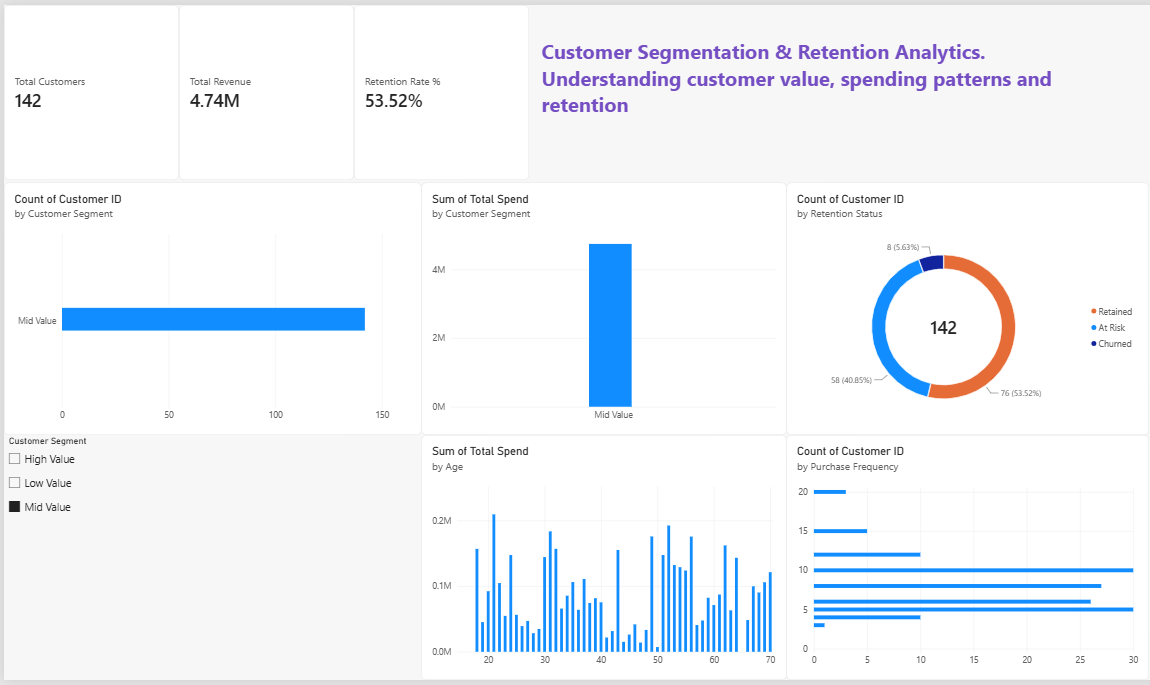

This screenshot's page, from the dashboard's own definition file:
{"tool":"powerbi","page":{"name":"Page 1","canvas":[1920,1080],"ordinal":0},"visuals":[{"type":"cardVisual","fields":{"Data":["customer_data.Total Customers"]},"box":[0,0,280,280],"z":0},{"type":"cardVisual","fields":{"Data":["customer_data.Retention Rate %"]},"box":[559.9,0,280,280],"z":1000},{"type":"cardVisual","fields":{"Data":["customer_data.Total Revenue"]},"box":[279.9,0,280,280],"z":2000},{"type":"clusteredBarChart","fields":{"Category":["customer_data.Customer Segment"],"Y":["Count(customer_data.Customer ID)"]},"box":[0,284,668,404],"z":3000},{"type":"clusteredColumnChart","fields":{"Category":["customer_data.Customer Segment"],"Y":["Sum(customer_data.Total Spend)"]},"box":[668,284,584,404],"z":4000},{"type":"donutChart","fields":{"Category":["customer_data.Retention Status"],"Y":["CountNonNull(customer_data.Customer ID)"]},"box":[1252,284,580,404],"z":5000},{"type":"slicer","fields":{"Values":["customer_data.Customer Segment"]},"box":[0,688,668,392],"z":5001},{"type":"clusteredColumnChart","fields":{"Category":["customer_data.Age"],"Y":["Sum(customer_data.Total Spend)"]},"box":[668,688,584,392],"z":5002},{"type":"clusteredBarChart","fields":{"Category":["customer_data.Purchase Frequency"],"Y":["Count(customer_data.Customer ID)"]},"box":[1252,688,580,392],"z":5003},{"type":"textbox","box":[860,52,914,144],"z":5004}]}

Visuals, with their boxes on the page's 1920x1080 design canvas (x1, y1, x2, y2). These are canvas units, not pixel positions in the 1150x685 screenshot, which may show the page scaled, cropped or inside an application window:
cardVisual - customer_data.Total Customers: detection(0, 0, 280, 280)
cardVisual - customer_data.Retention Rate %: detection(560, 0, 840, 280)
cardVisual - customer_data.Total Revenue: detection(280, 0, 560, 280)
clusteredBarChart - customer_data.Customer Segment x Count(customer_data.Customer ID): detection(0, 284, 668, 688)
clusteredColumnChart - customer_data.Customer Segment x Sum(customer_data.Total Spend): detection(668, 284, 1252, 688)
donutChart - customer_data.Retention Status x CountNonNull(customer_data.Customer ID): detection(1252, 284, 1832, 688)
slicer - customer_data.Customer Segment: detection(0, 688, 668, 1080)
clusteredColumnChart - customer_data.Age x Sum(customer_data.Total Spend): detection(668, 688, 1252, 1080)
clusteredBarChart - customer_data.Purchase Frequency x Count(customer_data.Customer ID): detection(1252, 688, 1832, 1080)
textbox: detection(860, 52, 1774, 196)
